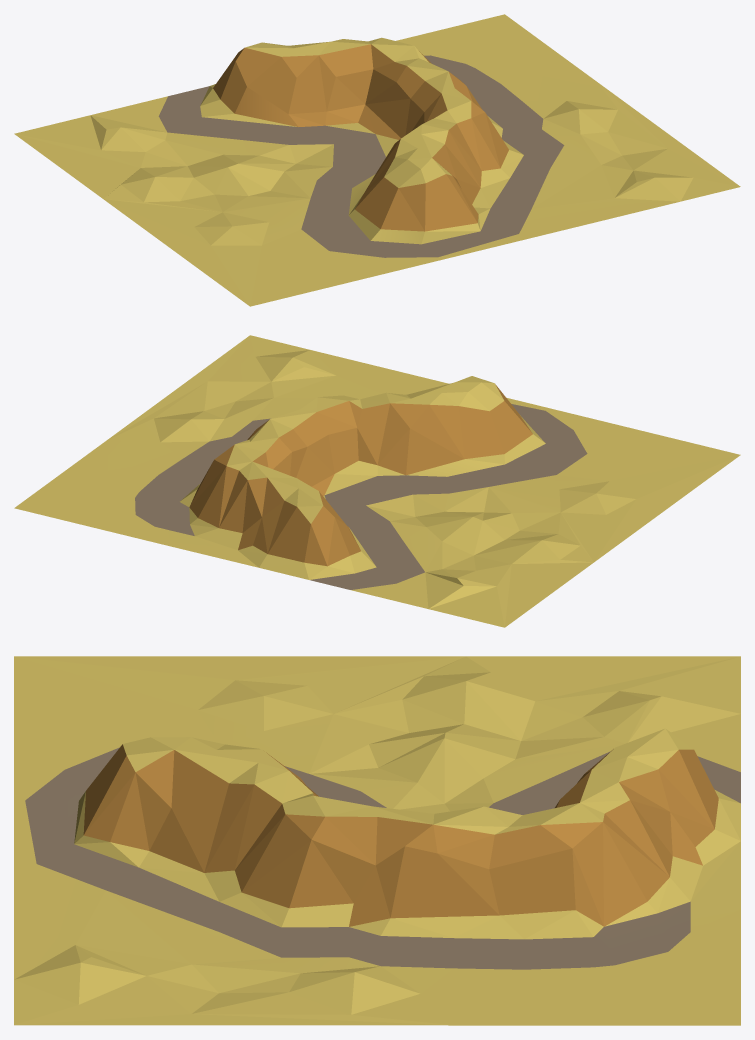
Rendered from PathTerrainDesert.fbx.
3 views of the same model, one above another, from view 1: azimuth 30°, elevation 25°; view 2: azimuth 150°, elevation 25°; view 3: azimuth 270°, elevation 25° (orthographic). The views are drawn at different scales.
Visible parts, largest first — view 1: Path, Terrain_2, Terrain_1, Terrain_3; view 2: Terrain_2, Path, Terrain_1, Terrain_3; view 3: Terrain_2, Path, Terrain_1, Terrain_3.
Part boxes in pixels (x1,y1,x2,y2): Path: (91,14,679,306); Terrain_2: (200,37,523,244); Terrain_1: (14,115,333,306); Terrain_3: (471,14,740,201); Terrain_2: (180,376,545,579); Path: (15,350,740,608); Terrain_1: (366,455,740,627); Terrain_3: (14,335,336,508); Terrain_2: (74,728,740,939); Path: (14,656,740,1025); Terrain_1: (14,656,740,813); Terrain_3: (14,945,740,1025).
Bounding box in the file's own units: 2400 × 276 × 2000.
